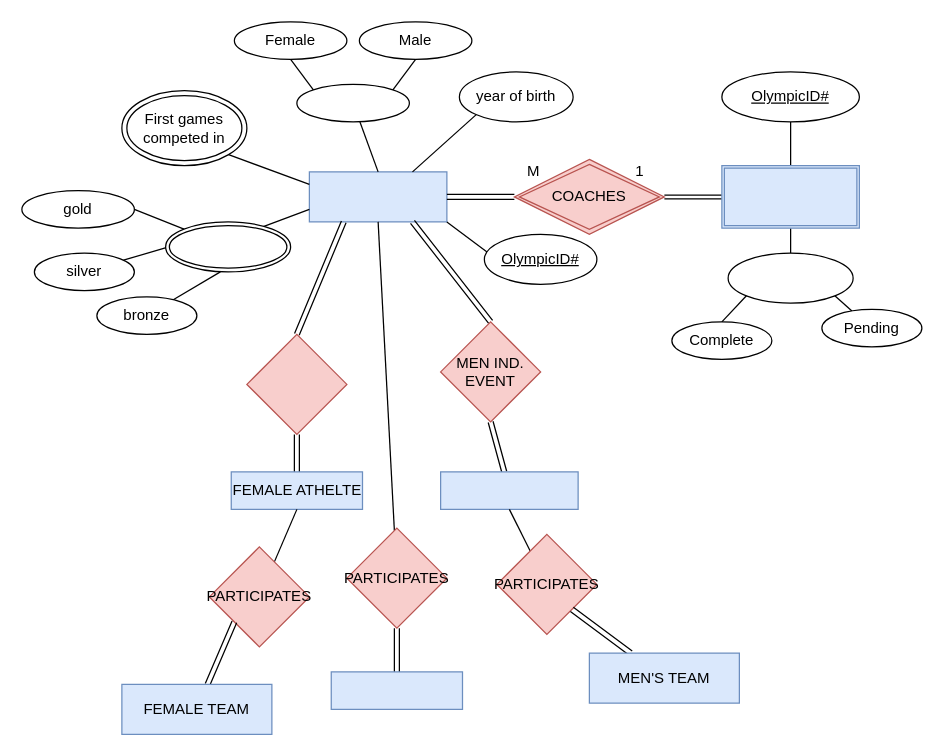
This 944x756 diagram has some shape labels left out. Each missing label, with the centre of its shape:
"ATHLETE" goes at [377,196].
"COACH" goes at [790,196].
"MALE ATHLETE" goes at [508,490].
"medal(s) earned" goes at [227,246].
"MIXED TEAM" goes at [396,690].
"Sex" goes at [352,102].
"WOMAN IND. EVENT" goes at [296,383].
"Workshop" goes at [790,277].
